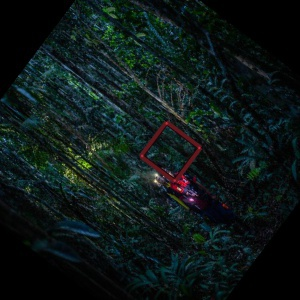square: (137, 118, 203, 185)
